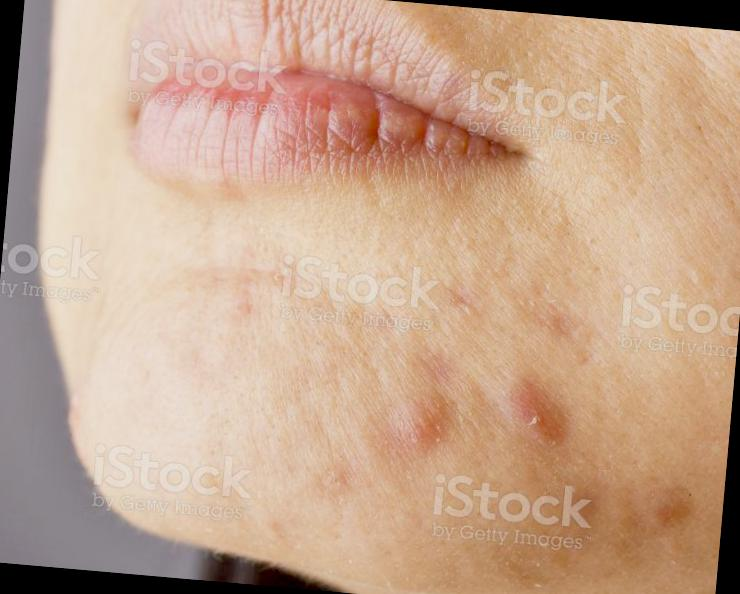Acne: (507, 376, 569, 444), (389, 388, 447, 448), (646, 476, 695, 530), (310, 460, 352, 496)
